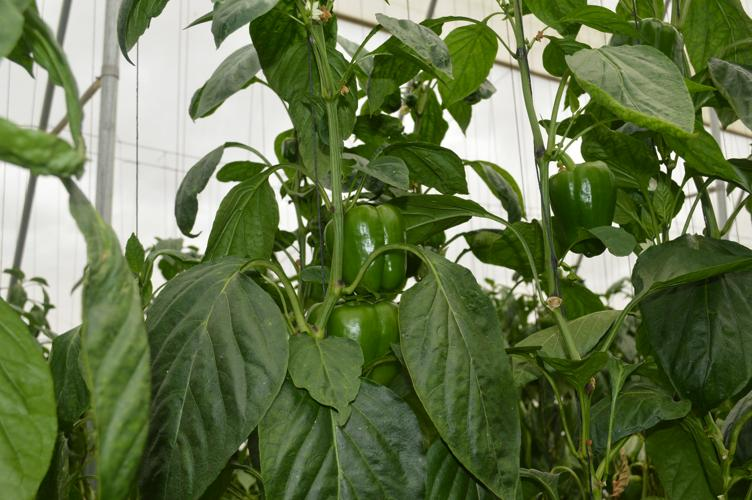BellPepper: (305, 298, 402, 384), (325, 203, 415, 293), (554, 160, 618, 233)
